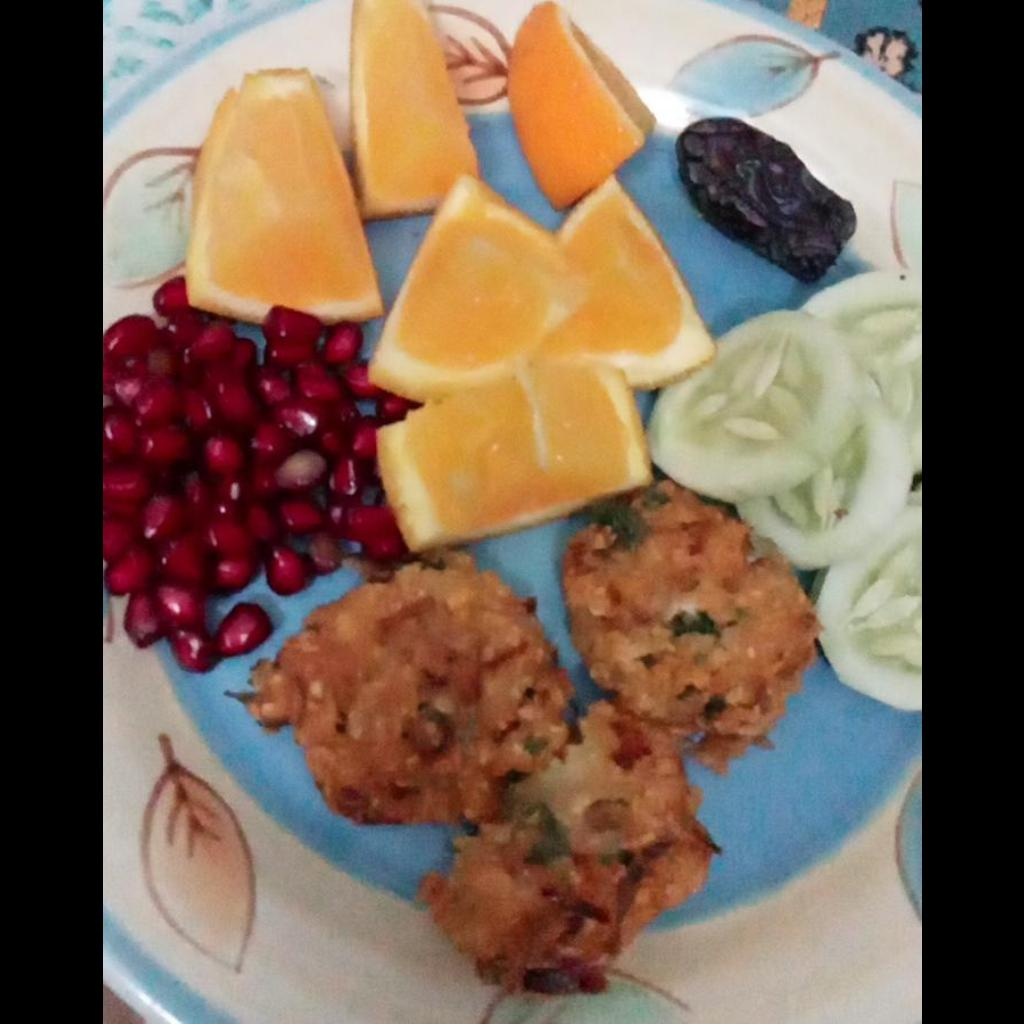cucumber: (662, 262, 920, 713)
dates: (672, 120, 857, 279)
orange: (180, 5, 711, 550)
peyaju: (231, 485, 806, 999)
